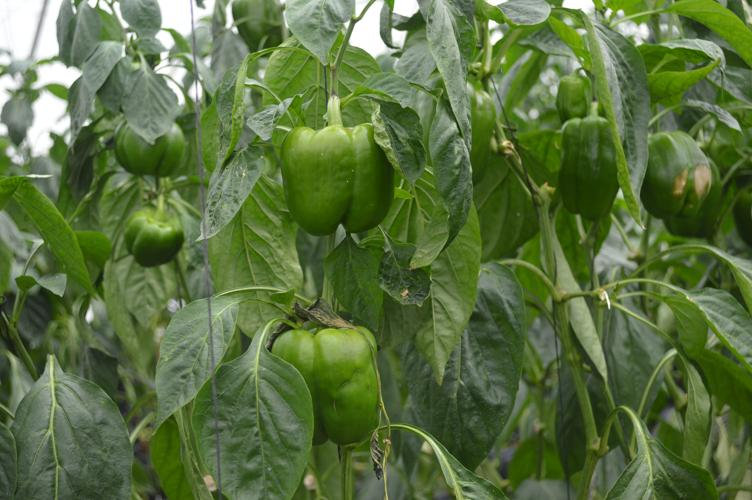BellPepper: (267, 317, 391, 453), (276, 122, 400, 246), (637, 123, 720, 230), (550, 109, 624, 227), (106, 110, 198, 181), (119, 203, 185, 267)
